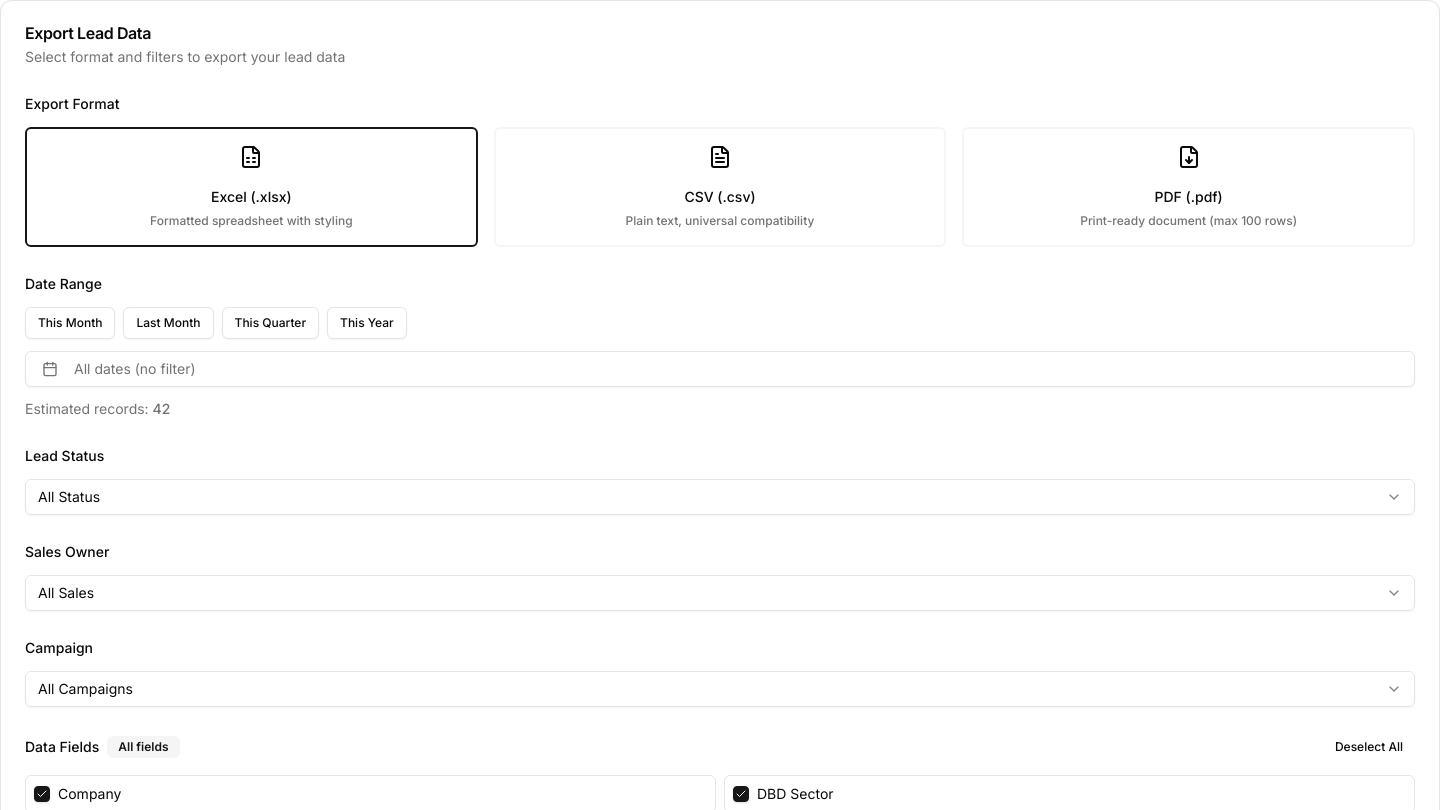
it: [P1] ExportForm state transition guardrails › toggling preset off removes badge and shows "All dates"
// Activate preset
Click the button with test id "preset-thisYear". click: (367, 323)
box: x1=327 y1=307 x2=407 y2=339
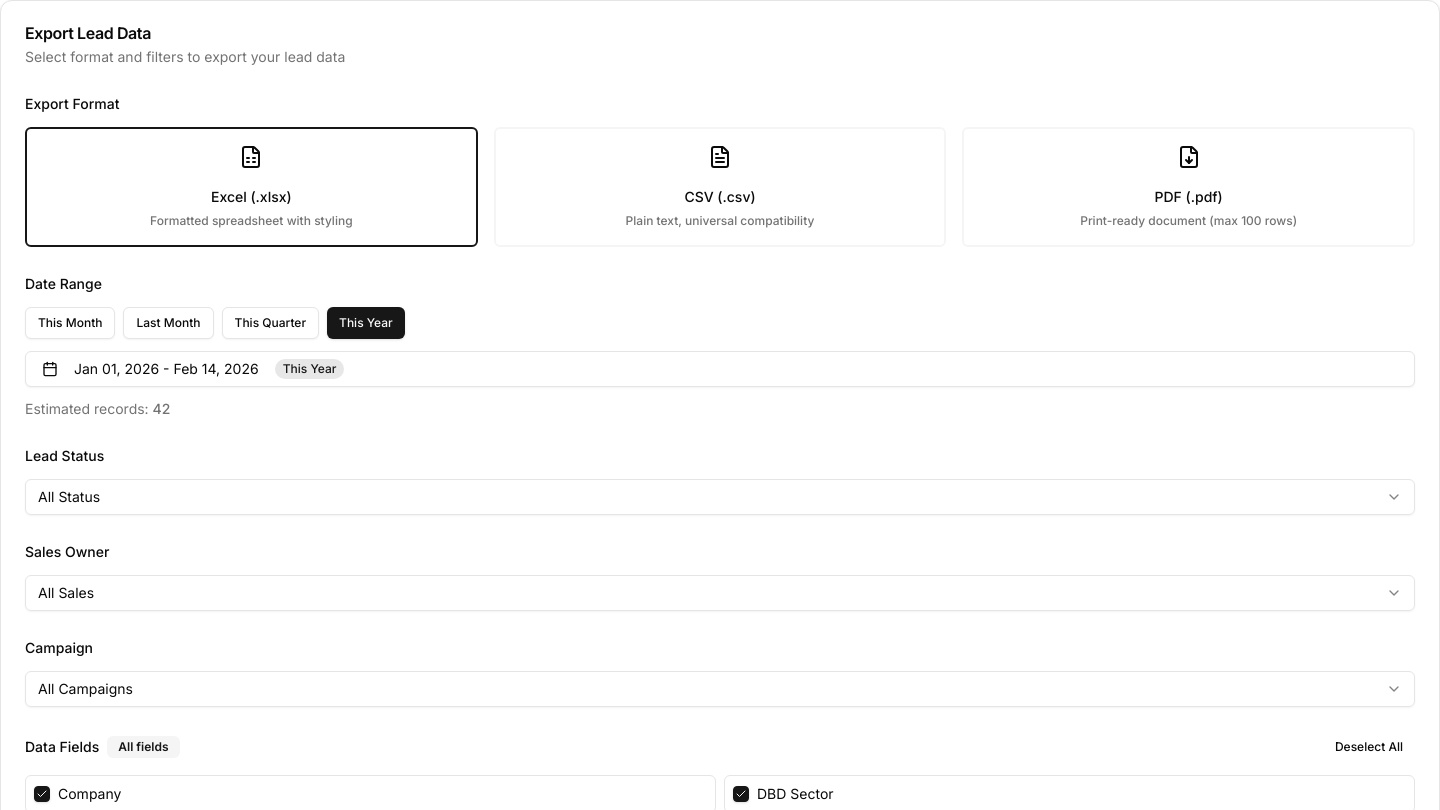
Expected: the text with test id "preset-badge" reads "This Year", x1=283 y1=361 x2=336 y2=376
// Toggle off
Click the button with test id "preset-thisYear". click: (366, 323)
box: x1=327 y1=307 x2=405 y2=339
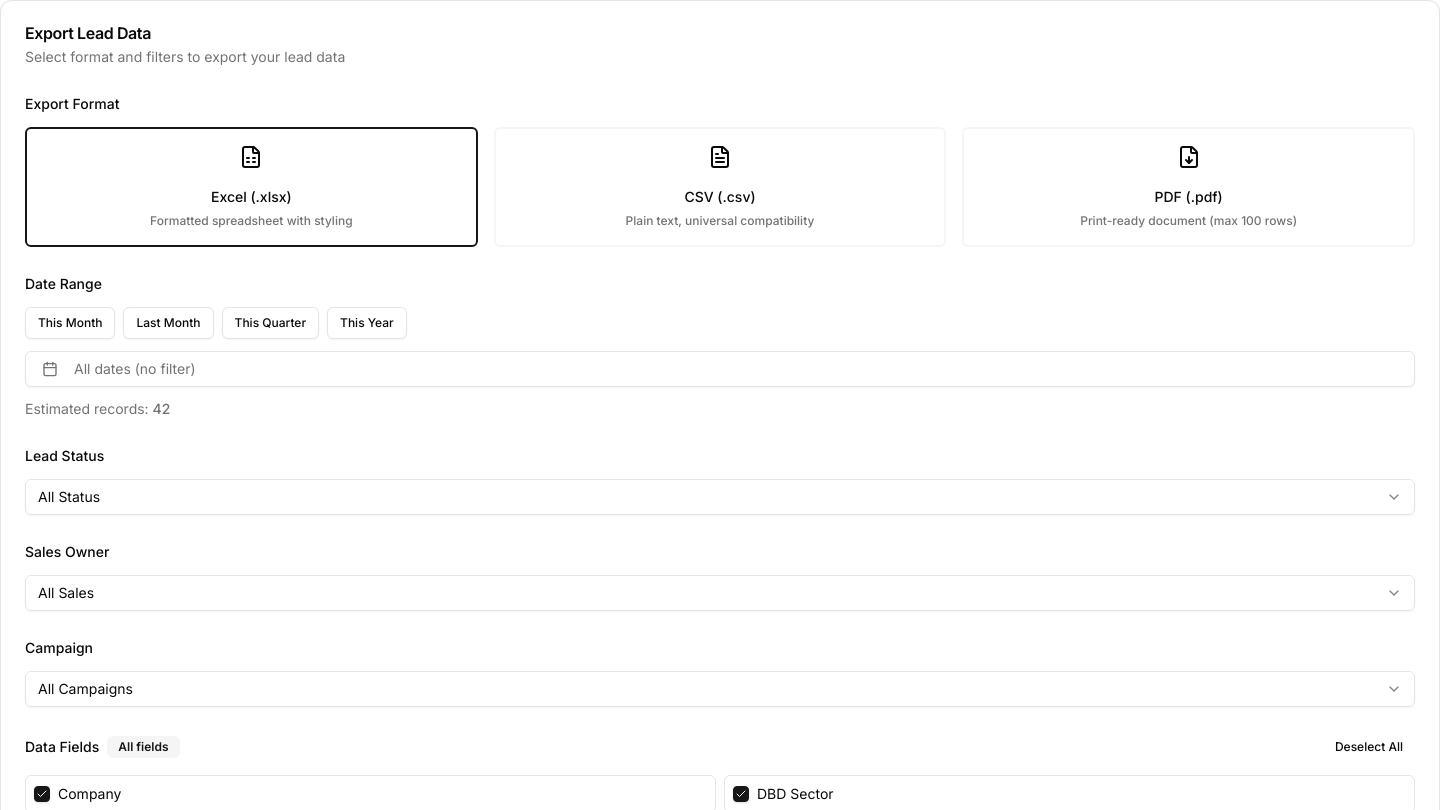
Expected: the text with test id "preset-badge" is gone
Expected: the button with test id "date-range-trigger" reads "All dates (no filter)", x1=25 y1=351 x2=1415 y2=387
